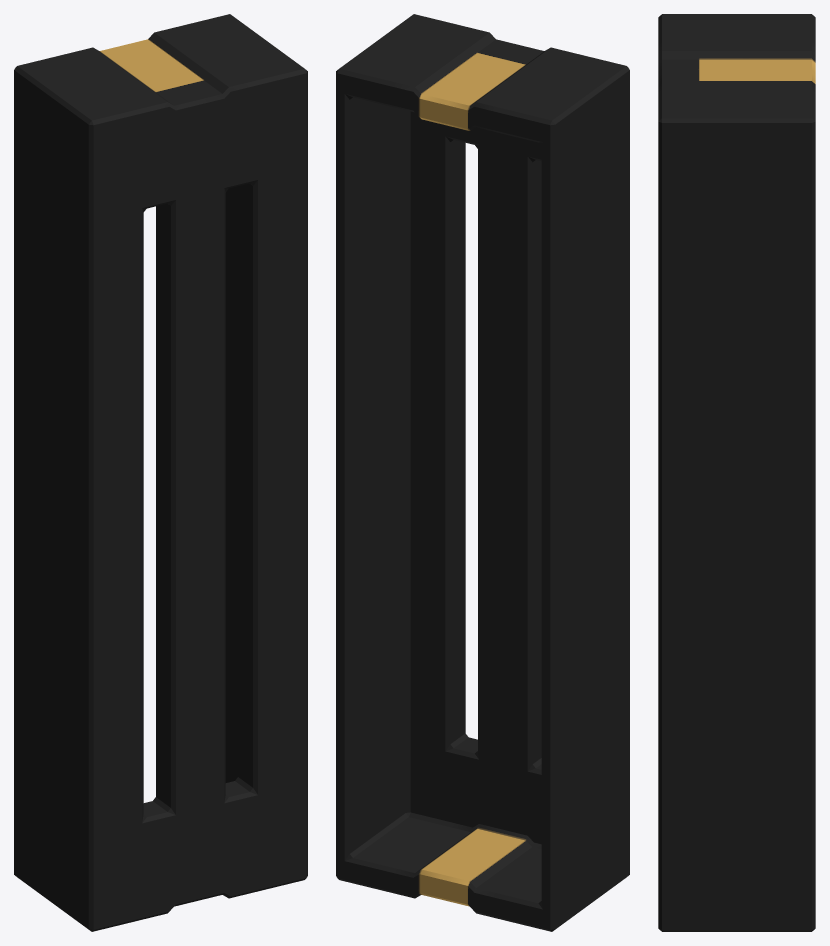
File: bat_holder.fbx
The picture shows the model from 3 angles, left to right: view 1: azimuth 30°, elevation 25°; view 2: azimuth 150°, elevation 25°; view 3: azimuth 270°, elevation 25°; orthographic projection.
Parts seen in each view (by area): view 1: bat_holder.001; view 2: bat_holder.001; view 3: bat_holder.001.
Part boxes in pixels (x1,y1,x2,y2): bat_holder.001: (14, 14, 307, 931); bat_holder.001: (336, 14, 629, 931); bat_holder.001: (658, 14, 815, 931).
Size of the model in its own units: 2.17 by 7.68 by 1.34.
Materials: 1 (1 with a texture image).
